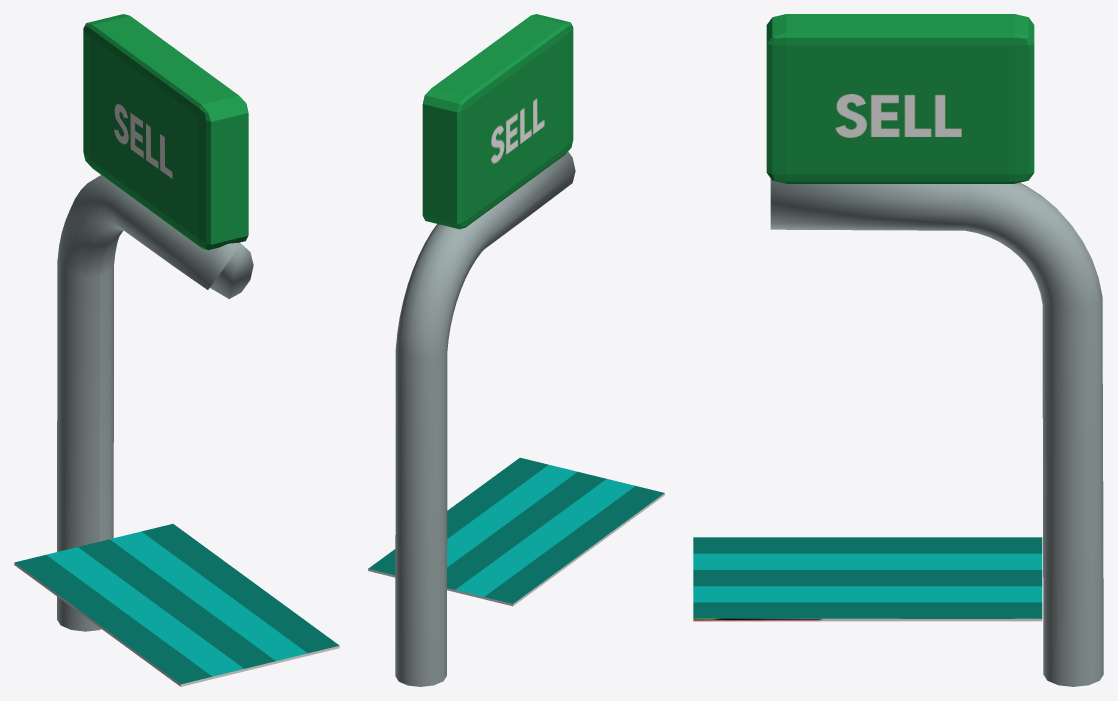
File: sell point.fbx
3 renders of one model, left to right at view 1: azimuth 30°, elevation 25°; view 2: azimuth 150°, elevation 25°; view 3: azimuth 270°, elevation 25°, orthographic. The views are drawn at different scales.
Parts seen in each view (by area): view 1: Cube.022; view 2: Cube.022; view 3: Cube.022.
Boxes of the visible parts, x1,y1,x2,y2 form: Cube.022: (14,14,339,686); Cube.022: (368,14,664,686); Cube.022: (693,14,1103,686).
Size of the model in its own units: 200 by 745 by 427.
3 materials, 3 textured.
